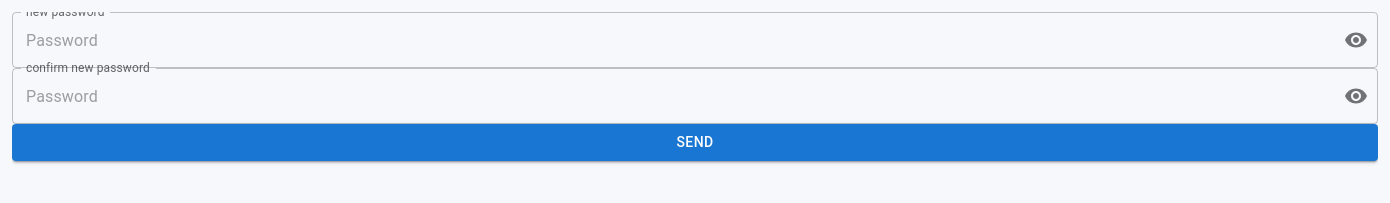
ResetPasswordForm › compares passwords
The width and height of the screenshot is (1390, 203).
Type "password" into the password field labelled "new password" at (670, 40), box [12, 12, 1328, 68]
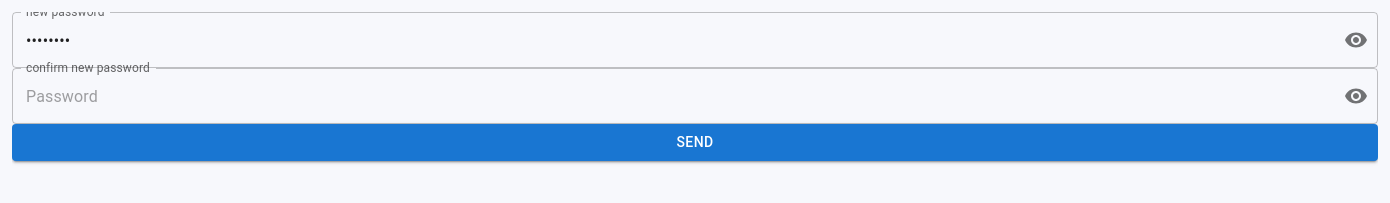
Type "password123" into the password field labelled "confirm new password" at (670, 96), box [12, 68, 1328, 124]
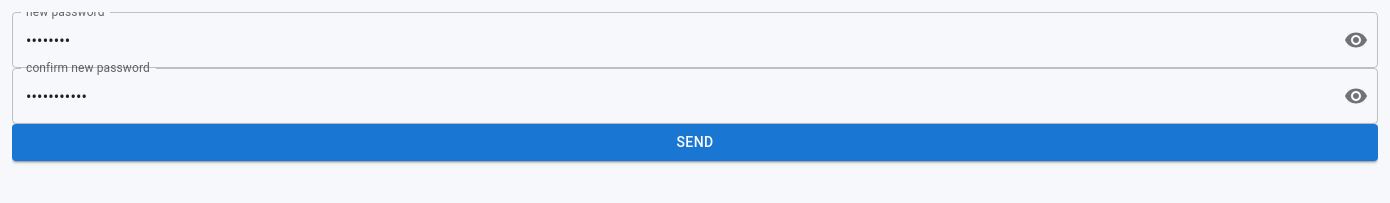
Check: the text "Passwords do not match" is not shown
Click the button "Send" at (695, 142), box [12, 124, 1378, 160]
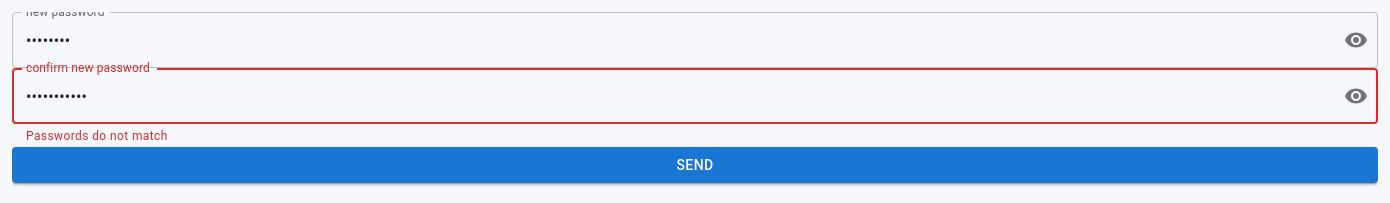
Check: the text "Passwords do not match" is shown, box [26, 129, 168, 143]
